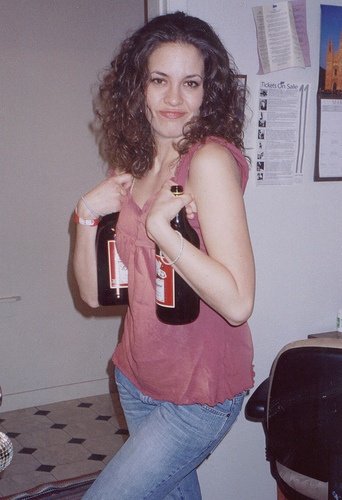head: (127, 15, 219, 144)
person: (48, 6, 268, 500)
